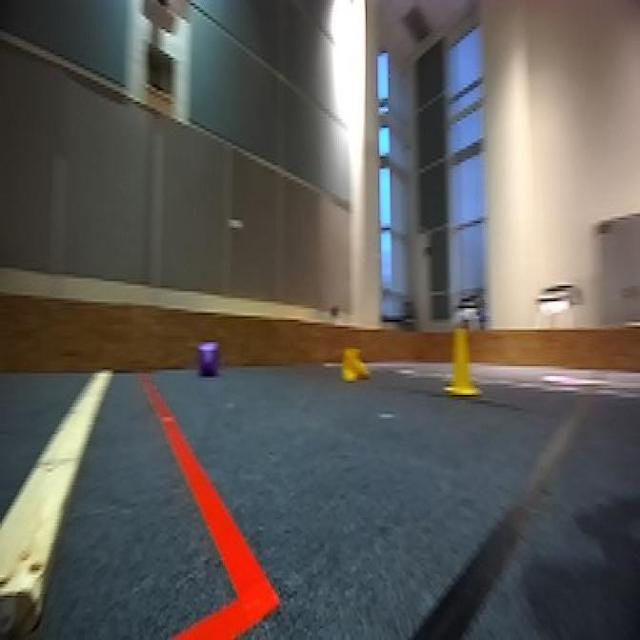frc_cone: (444, 320, 480, 397), (340, 346, 372, 383)
frc_cube: (199, 344, 218, 376)
